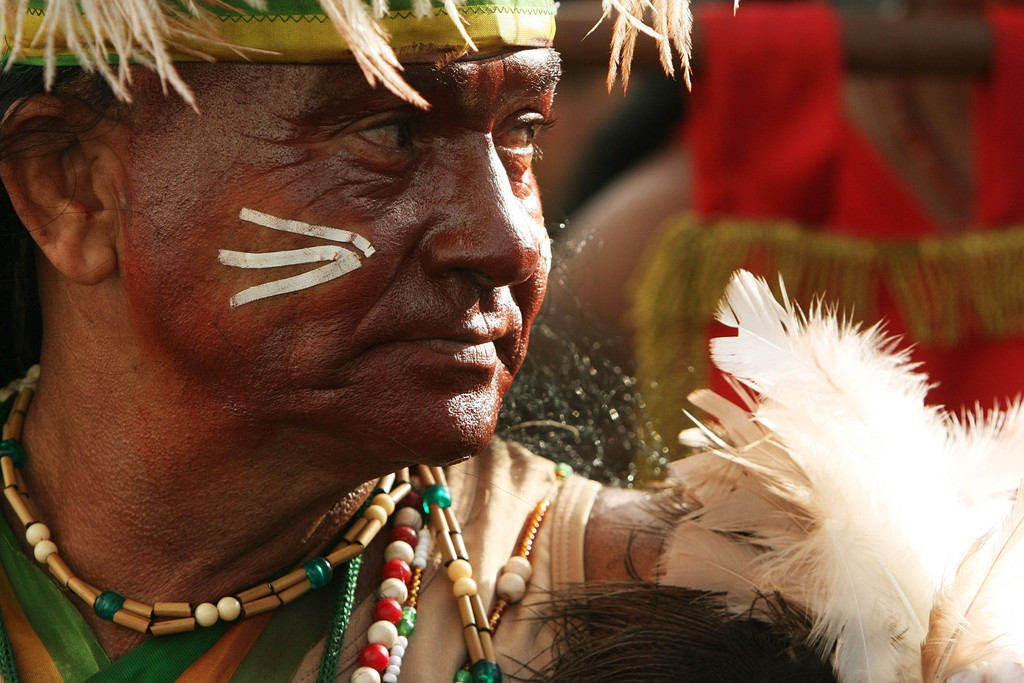Human-face: (122, 47, 561, 457)
